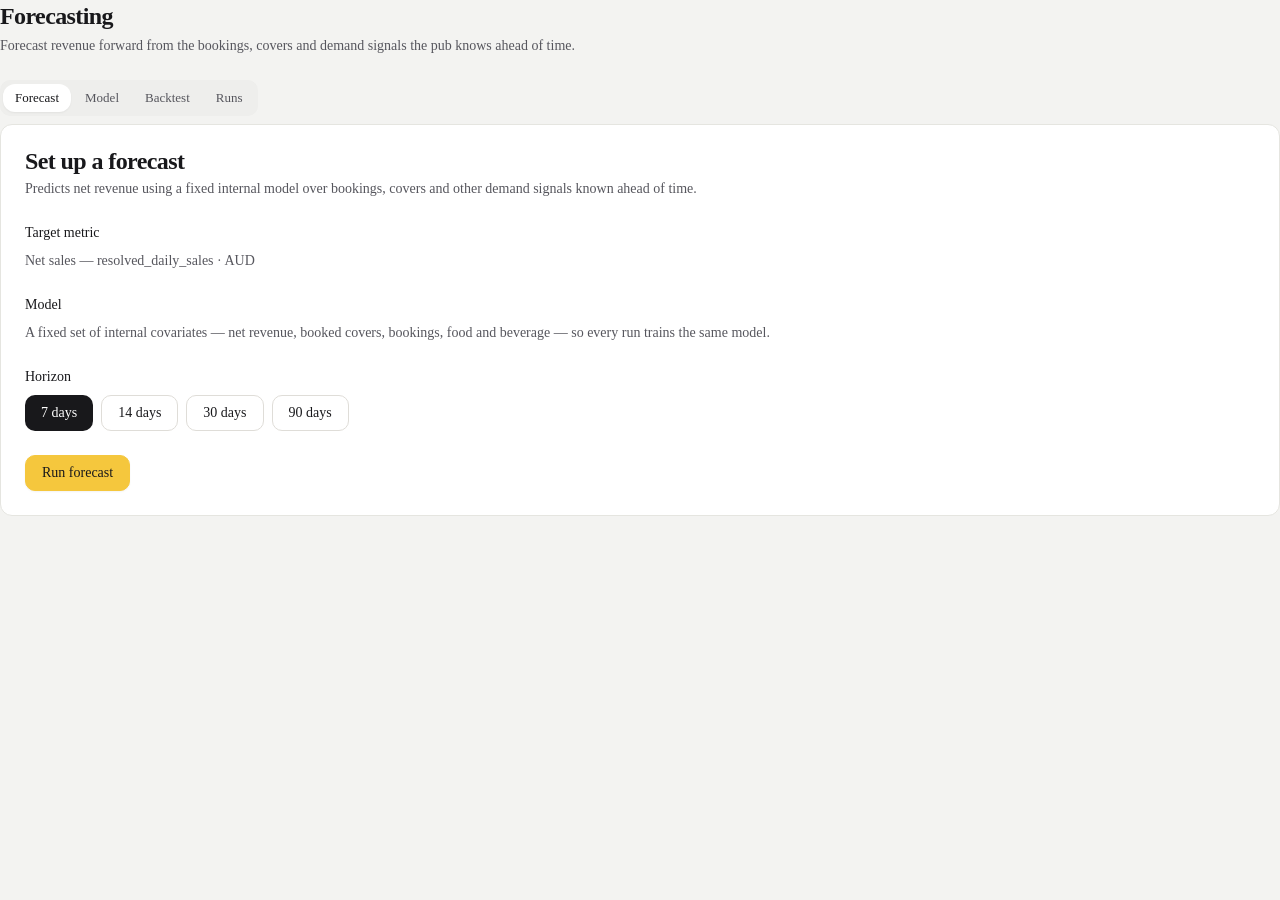
Test case: ForecastingPage › shows feature importance and the beats-baseline banner on the Model tab when the model loses
Expected: the text "Net sales — resolved_daily_sales · AUD" is shown, 25,253 -> 255,268
Click the button "Run forecast" at (78, 473), box 25,455 -> 130,491
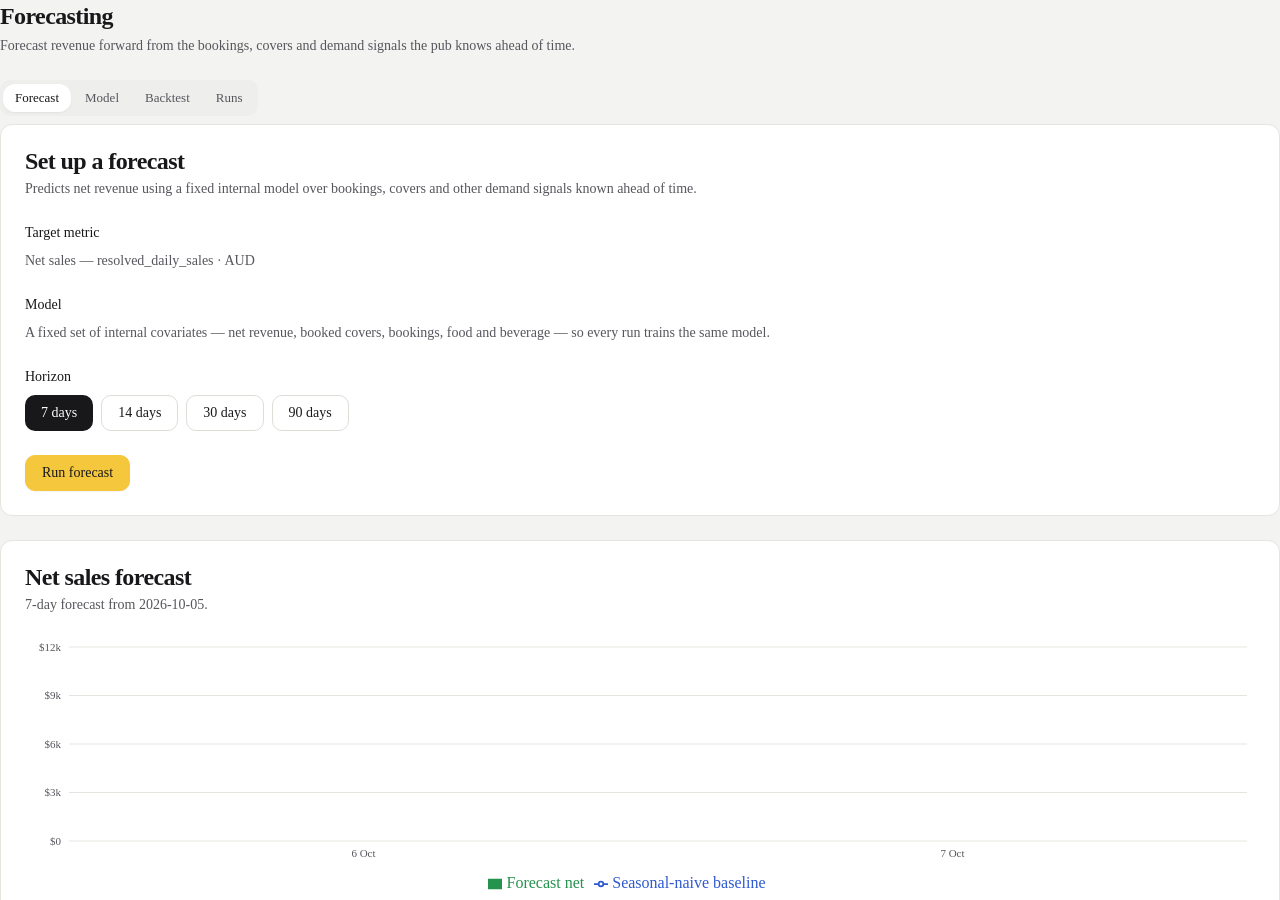
Result: the picture with test id "forecast-vs-baseline-chart" is shown at 25,639 -> 1255,895
Press the mouse on the tab "Model" at (102, 98), box 73,84 -> 131,112
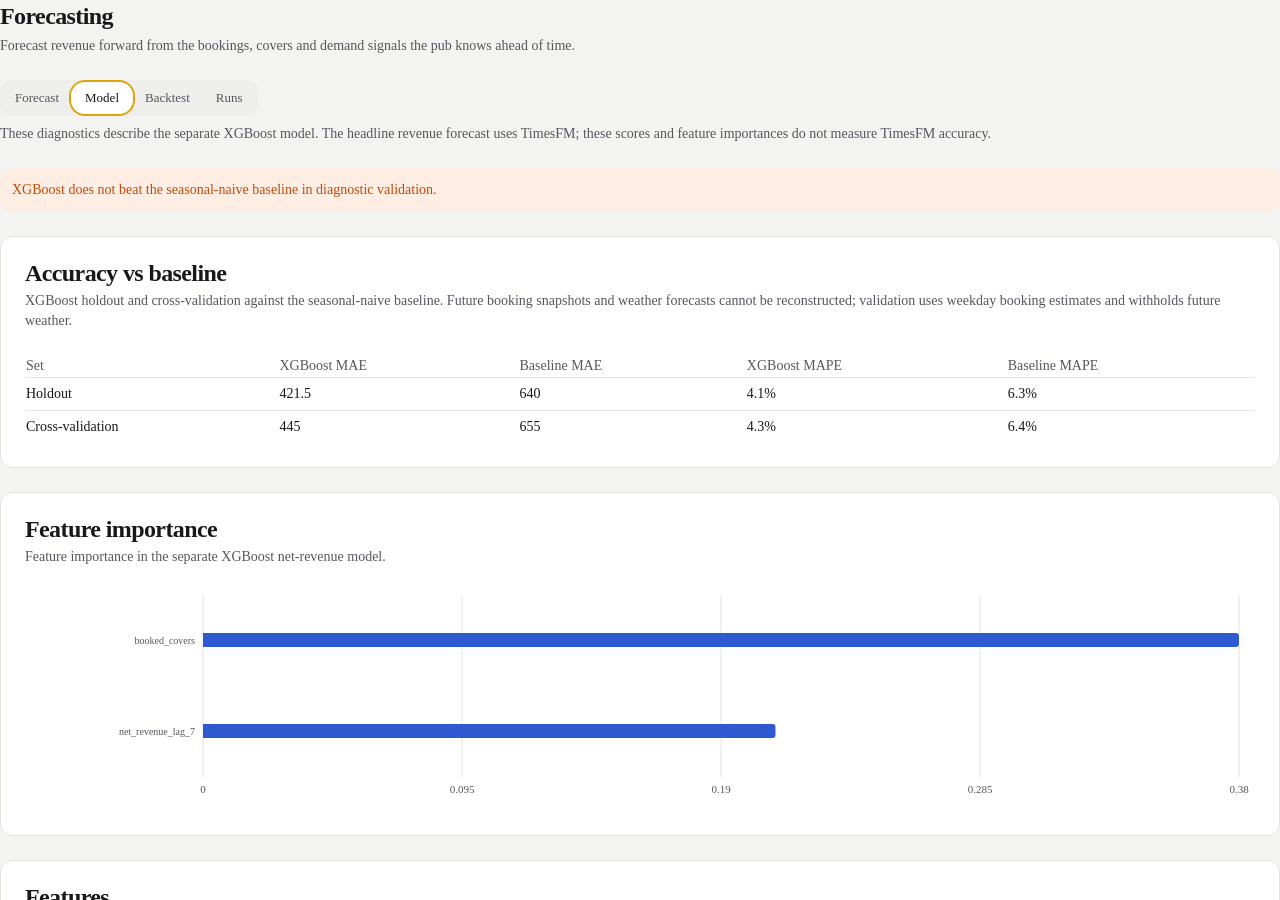
Result: the picture with test id "feature-importance-chart" is shown at 25,591 -> 1255,811
Result: the text "XGBoost does not beat the seasonal-naive baseline in diagnostic validation." is shown at 0,168 -> 1279,212
Result: the text "Accuracy vs baseline" is shown at 25,260 -> 226,286
